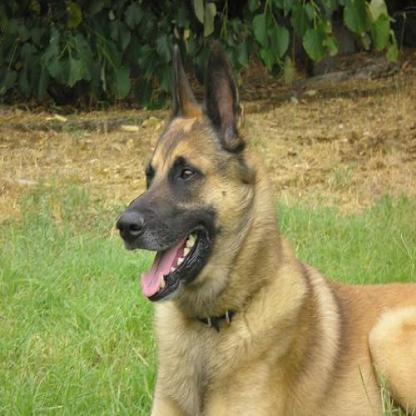malinois: (114, 39, 413, 413)
